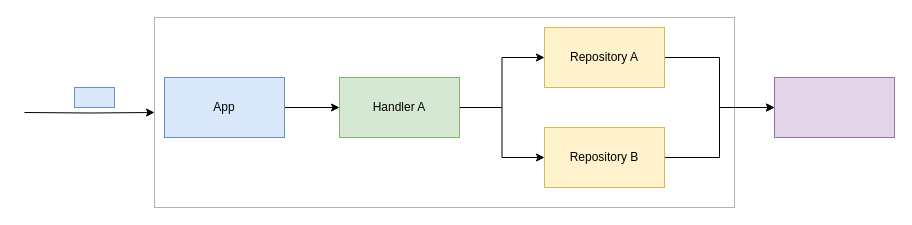
Some shapes in this 912 by 225 pixel diagram are drawn without their labels. Each missing label, with the box of its shape:
External Data Provider: (774, 76, 894, 138)
GET: (74, 86, 114, 108)
